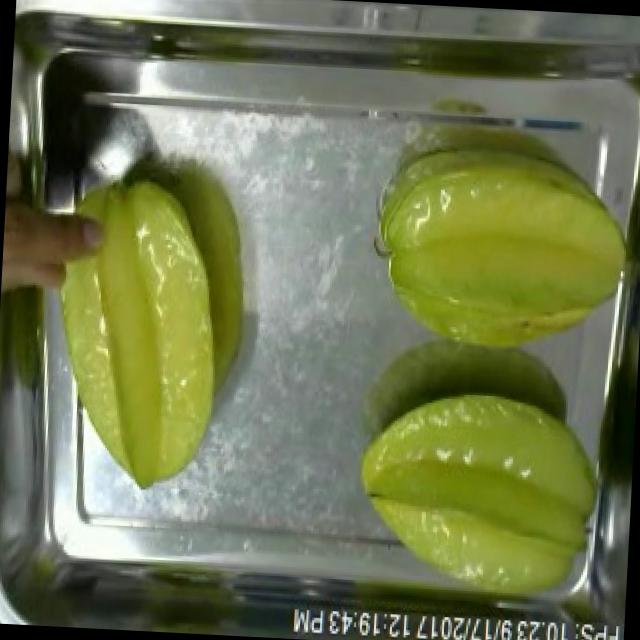fruit: (362, 121, 640, 373), (39, 157, 238, 501), (341, 374, 617, 618)
